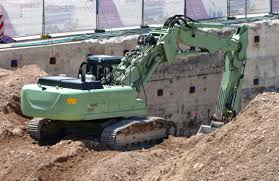excavator: (20, 19, 251, 149)
